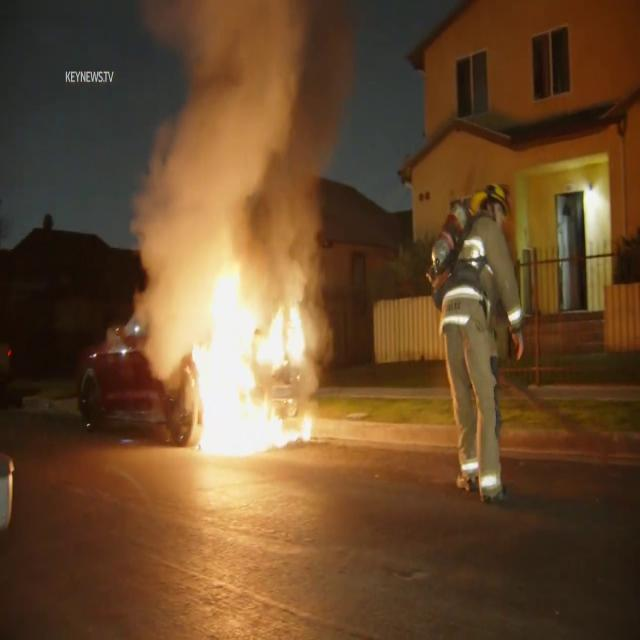Fire: (171, 222, 325, 464)
Smoke: (125, 1, 361, 272)
